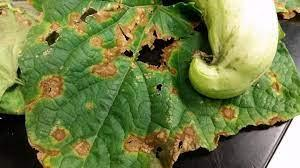Bok-Choy-Diseased: (27, 4, 193, 158)
